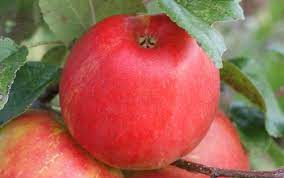apple: (57, 14, 220, 167)
